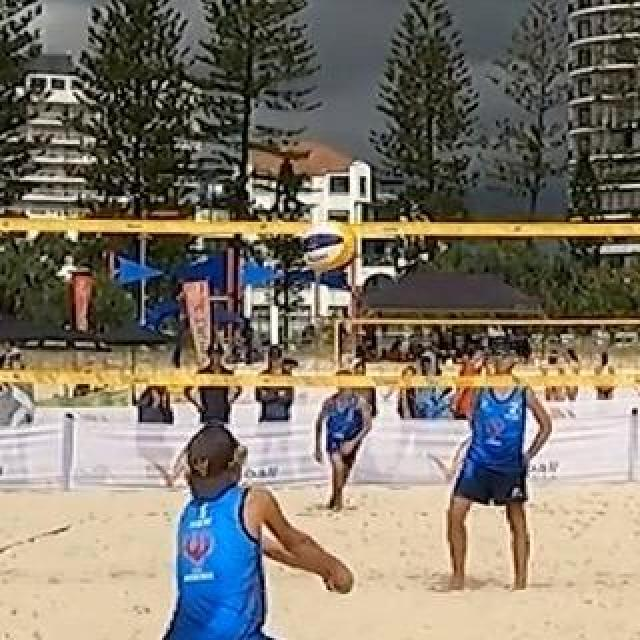volleyball: (299, 220, 357, 274)
